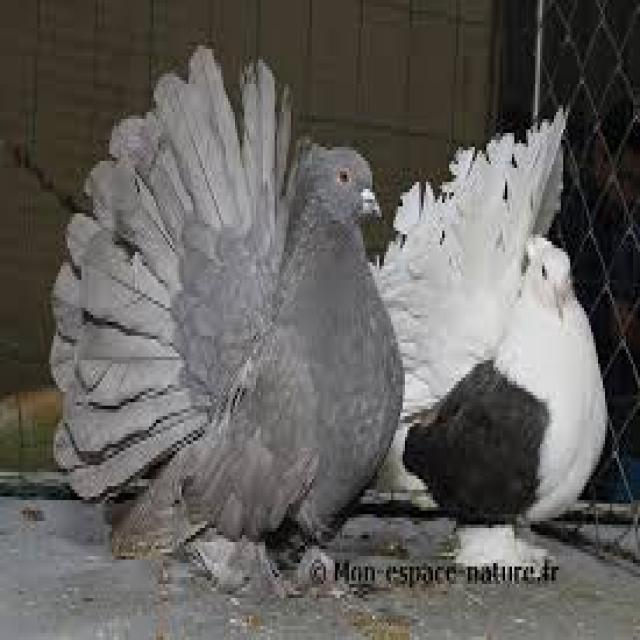pigeon: (385, 138, 619, 566)
